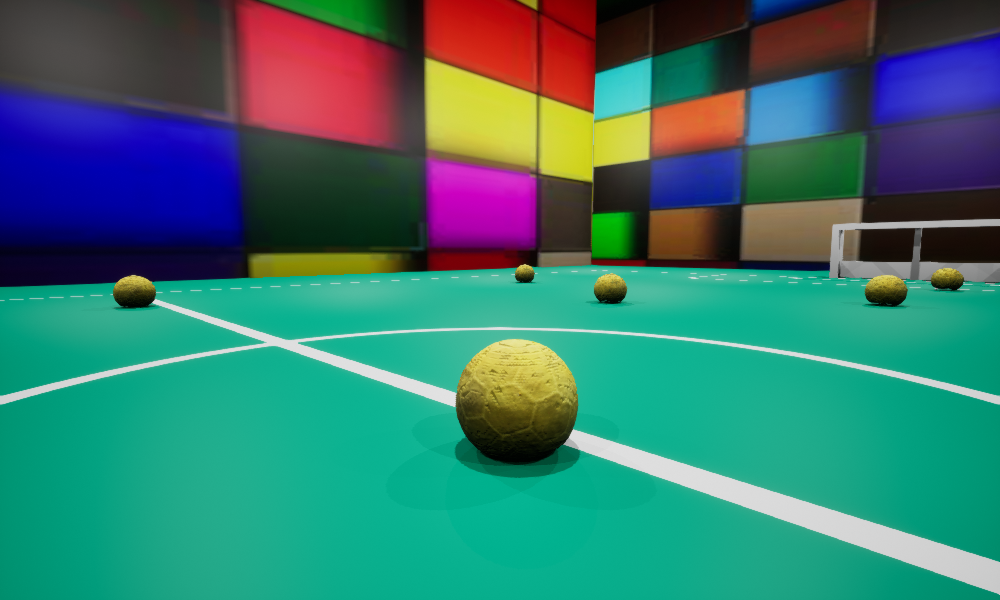b: (456, 339, 577, 460), (113, 275, 155, 307), (865, 275, 907, 305), (594, 273, 626, 302), (931, 268, 963, 290), (515, 264, 534, 282)
g: (829, 219, 999, 281)
